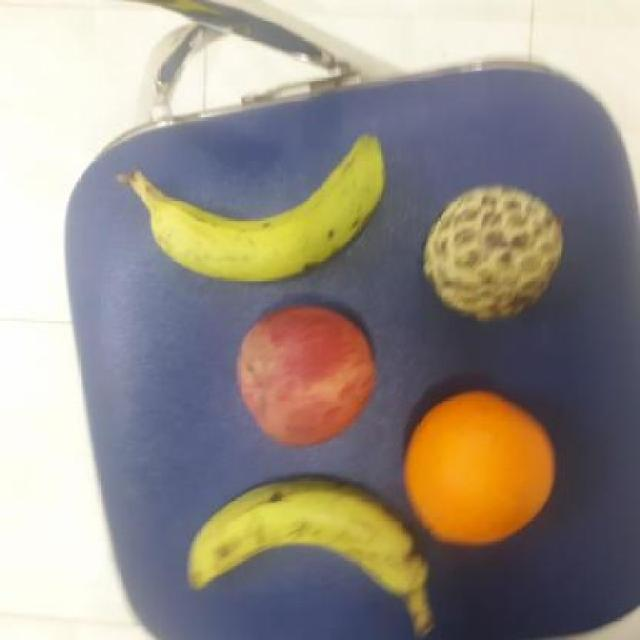apple: (230, 304, 382, 448)
banana: (124, 136, 391, 286), (181, 470, 434, 598)
oren: (396, 388, 562, 544)
sugar apple: (414, 177, 566, 321)
